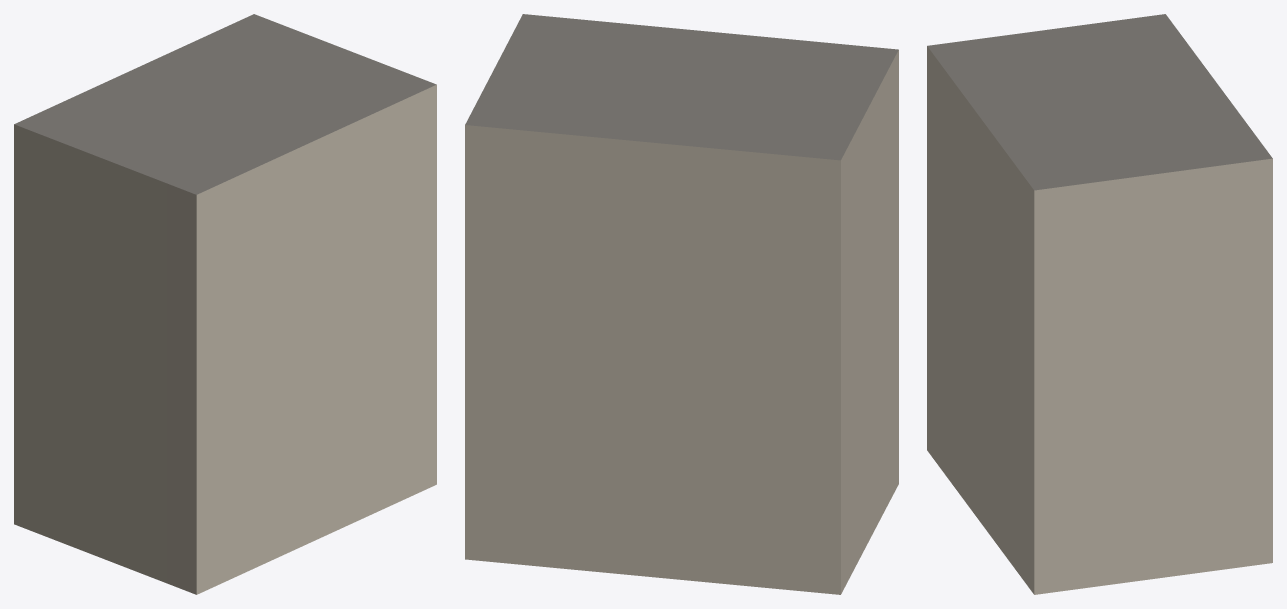
The picture shows the model from 3 angles, left to right: view 1: azimuth 30°, elevation 25°; view 2: azimuth 150°, elevation 25°; view 3: azimuth 270°, elevation 25°; orthographic projection. The views are drawn at different scales.
Parts seen in each view (by area): view 1: HP-w1198020608; view 2: HP-w1198020608; view 3: HP-w1198020608.
Boxes of the visible parts, bbox=[...] form: HP-w1198020608: bbox=[14, 14, 436, 594]; HP-w1198020608: bbox=[465, 14, 898, 594]; HP-w1198020608: bbox=[927, 14, 1272, 594].
Size of the model in its own units: 16.85 by 18 by 13.95.
